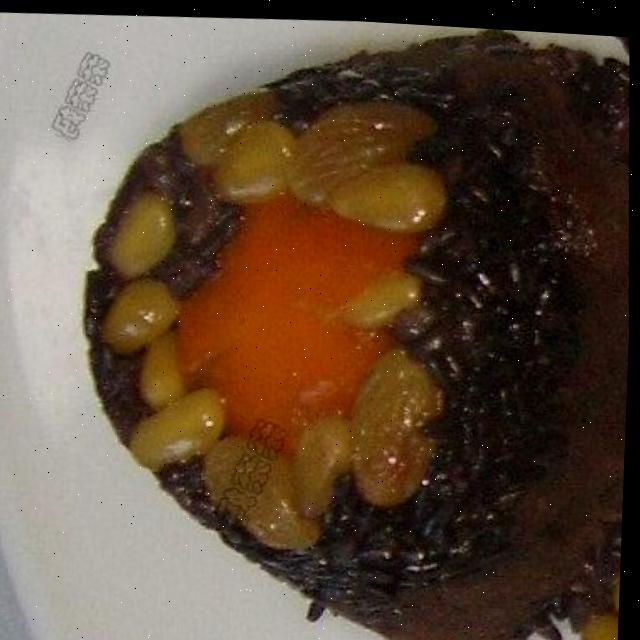米饭主食: (23, 2, 640, 640)
